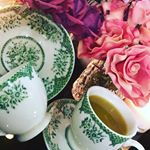cups: (67, 82, 146, 150), (1, 60, 55, 142)
